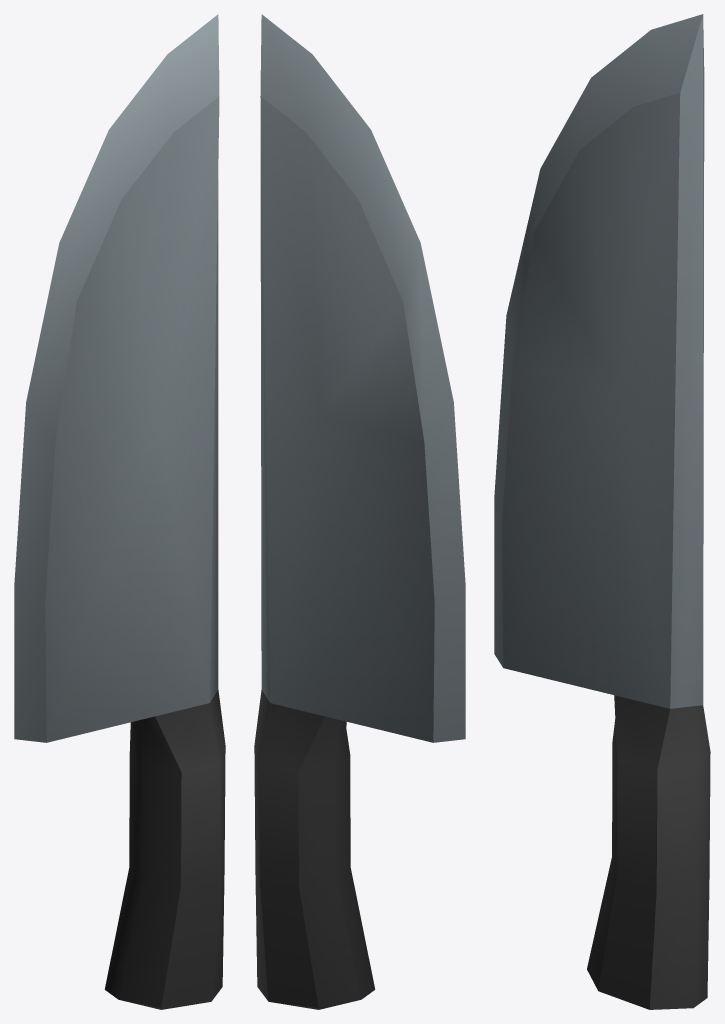
The model's file is kay-knife.glb.
3 views of the same model, side by side, from view 1: azimuth 30°, elevation 25°; view 2: azimuth 150°, elevation 25°; view 3: azimuth 330°, elevation 25° (orthographic). The views are drawn at different scales.
Visible parts, largest first — view 1: knife; view 2: knife; view 3: knife.
Part boxes in pixels (box(x1,y1,x2,y2)): knife: box(14, 14, 225, 1009); knife: box(254, 14, 465, 1009); knife: box(494, 14, 710, 1009).
Bounding box in the file's own units: 0.0478 × 0.22 × 0.0191.
Materials: 1 (1 with a texture image).
